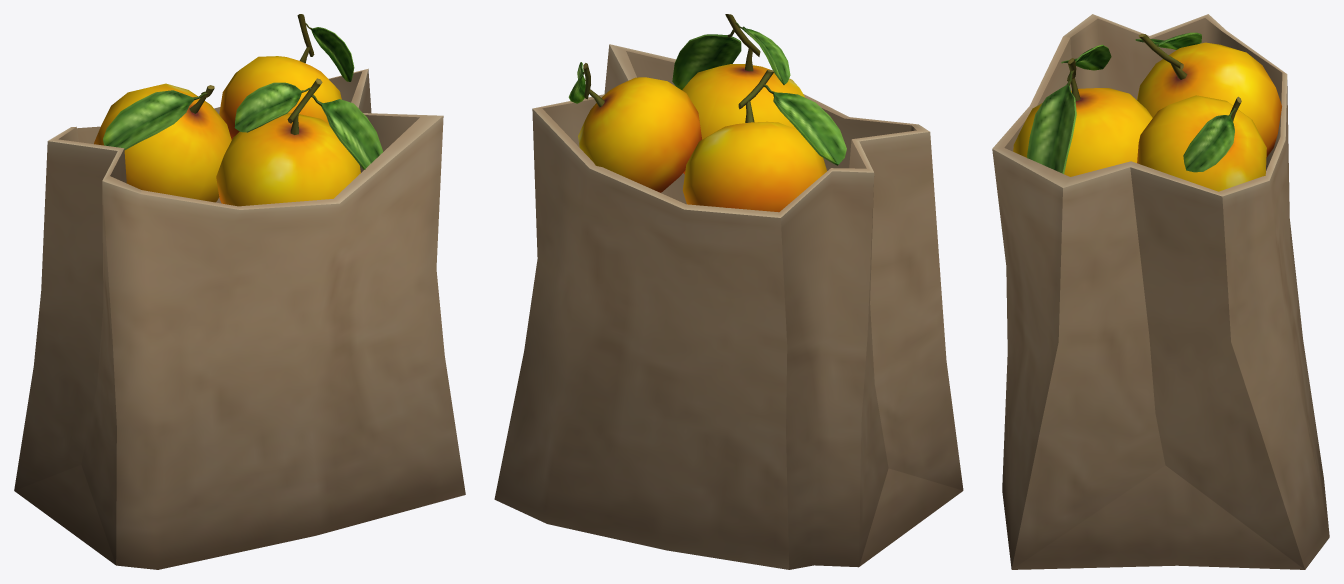
File: MaLuBian_01_juzi_01.FBX
3 views of the same model, side by side, from view 1: azimuth 30°, elevation 25°; view 2: azimuth 150°, elevation 25°; view 3: azimuth 270°, elevation 25° (orthographic). The views are drawn at different scales.
Visible parts, largest first — view 1: polySurface20; view 2: polySurface20; view 3: polySurface20.
Boxes of the visible parts, x1,y1,x2,y2 form: polySurface20: (14,14,465,569); polySurface20: (494,14,963,569); polySurface20: (992,14,1329,569).
Size of the model in its own units: 76.72 by 92.27 by 62.78.
